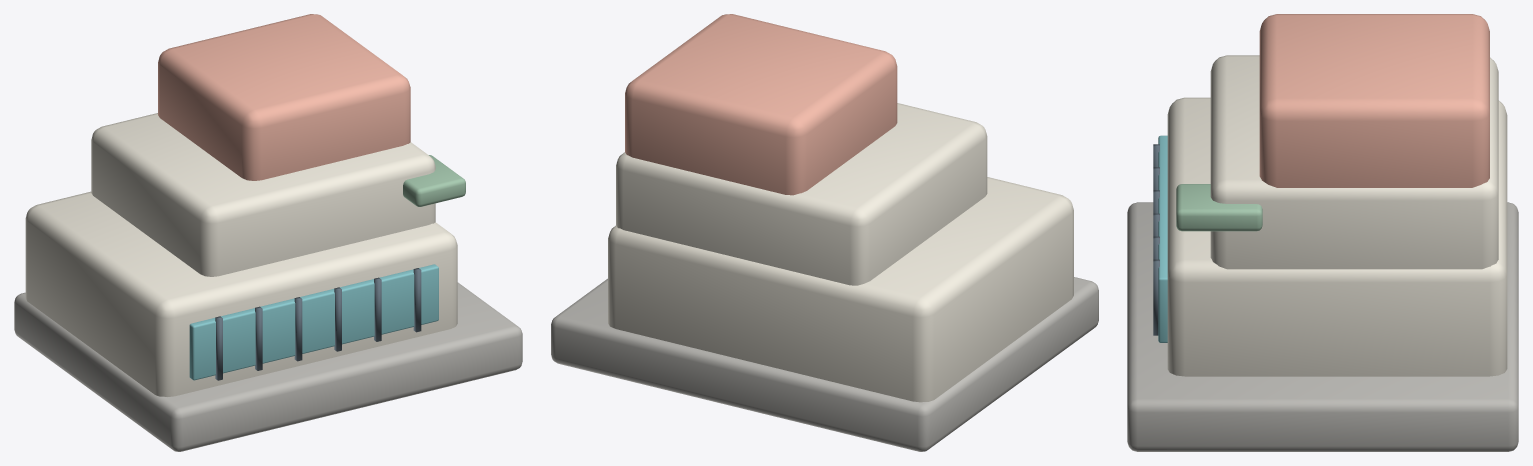
The model's file is research.glb.
The picture shows the model from 3 angles, left to right: view 1: azimuth 30°, elevation 25°; view 2: azimuth 150°, elevation 25°; view 3: azimuth 270°, elevation 25°; orthographic projection. The views are drawn at different scales.
Parts seen in each view (by area): view 1: Base__Research__LowerTerrace, Base__Research__MiddleTerrace, Base__Research__UpperStudio, Base__Research__Foundation, Base__Research__LowerGlass, Base__Research__Mullions, Base__Research__TerracePlanter; view 2: Base__Research__LowerTerrace, Base__Research__UpperStudio, Base__Research__MiddleTerrace, Base__Research__Foundation; view 3: Base__Research__LowerTerrace, Base__Research__UpperStudio, Base__Research__Foundation, Base__Research__MiddleTerrace, Base__Research__TerracePlanter, Base__Research__LowerGlass, Base__Research__Mullions.
Part boxes in pixels (x1,y1,x2,y2): Base__Research__LowerTerrace: [25, 191, 457, 396]; Base__Research__MiddleTerrace: [91, 113, 435, 276]; Base__Research__UpperStudio: [158, 14, 410, 180]; Base__Research__Foundation: [14, 282, 522, 451]; Base__Research__LowerGlass: [189, 264, 438, 380]; Base__Research__Mullions: [215, 268, 421, 380]; Base__Research__TerracePlanter: [403, 155, 465, 206]; Base__Research__LowerTerrace: [608, 177, 1073, 402]; Base__Research__UpperStudio: [625, 14, 897, 195]; Base__Research__MiddleTerrace: [616, 103, 987, 285]; Base__Research__Foundation: [551, 277, 1098, 451]; Base__Research__LowerTerrace: [1167, 97, 1507, 376]; Base__Research__UpperStudio: [1259, 14, 1489, 187]; Base__Research__Foundation: [1127, 202, 1518, 451]; Base__Research__MiddleTerrace: [1210, 55, 1498, 269]; Base__Research__TerracePlanter: [1176, 184, 1262, 231]; Base__Research__LowerGlass: [1158, 135, 1167, 342]; Base__Research__Mullions: [1153, 144, 1159, 335].
Size of the model in its own units: 8.4 by 6.1 by 6.8.
